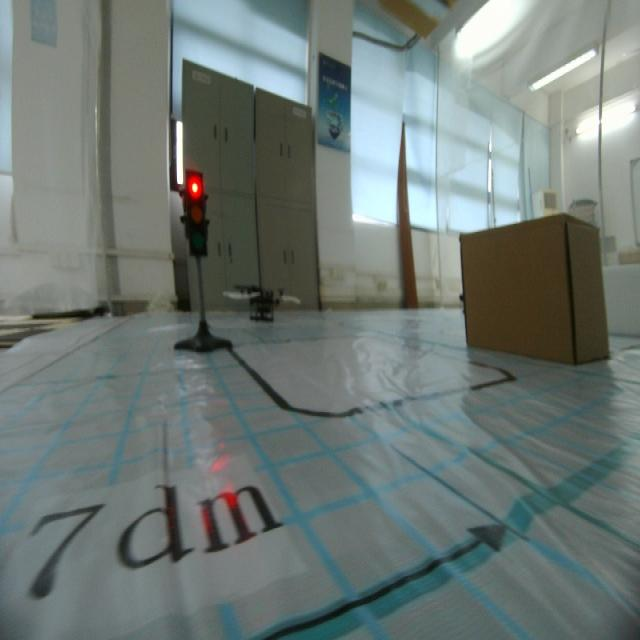red: (180, 164, 211, 261)
